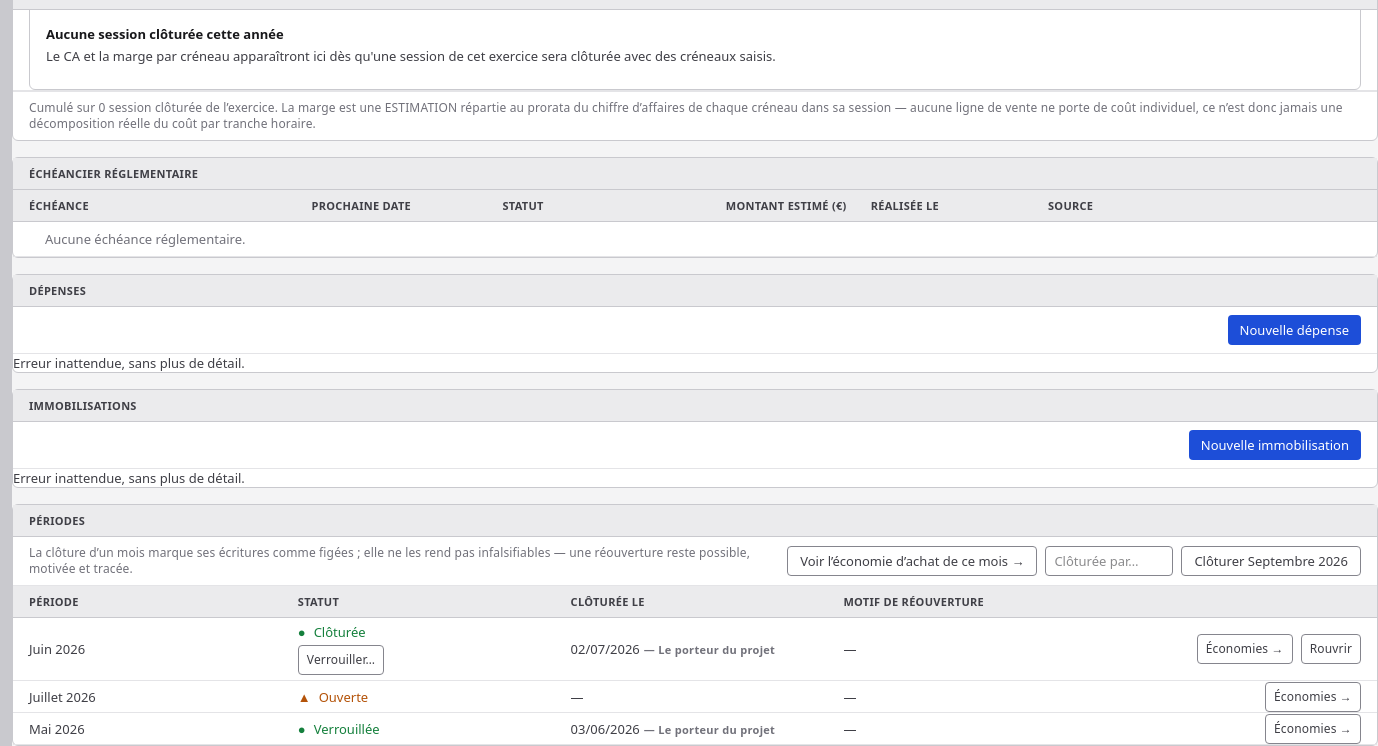
Comptabilité — le verrou définitif ne se pose jamais par accident › le clic ouvre la confirmation, demande l’impact de CETTE période, et pose le focus sur la recopie
The image size is (1378, 746).
(page scrolled)
Click the button "Verrouiller…" at (341, 660), box [298,645,384,675]
(page scrolled)
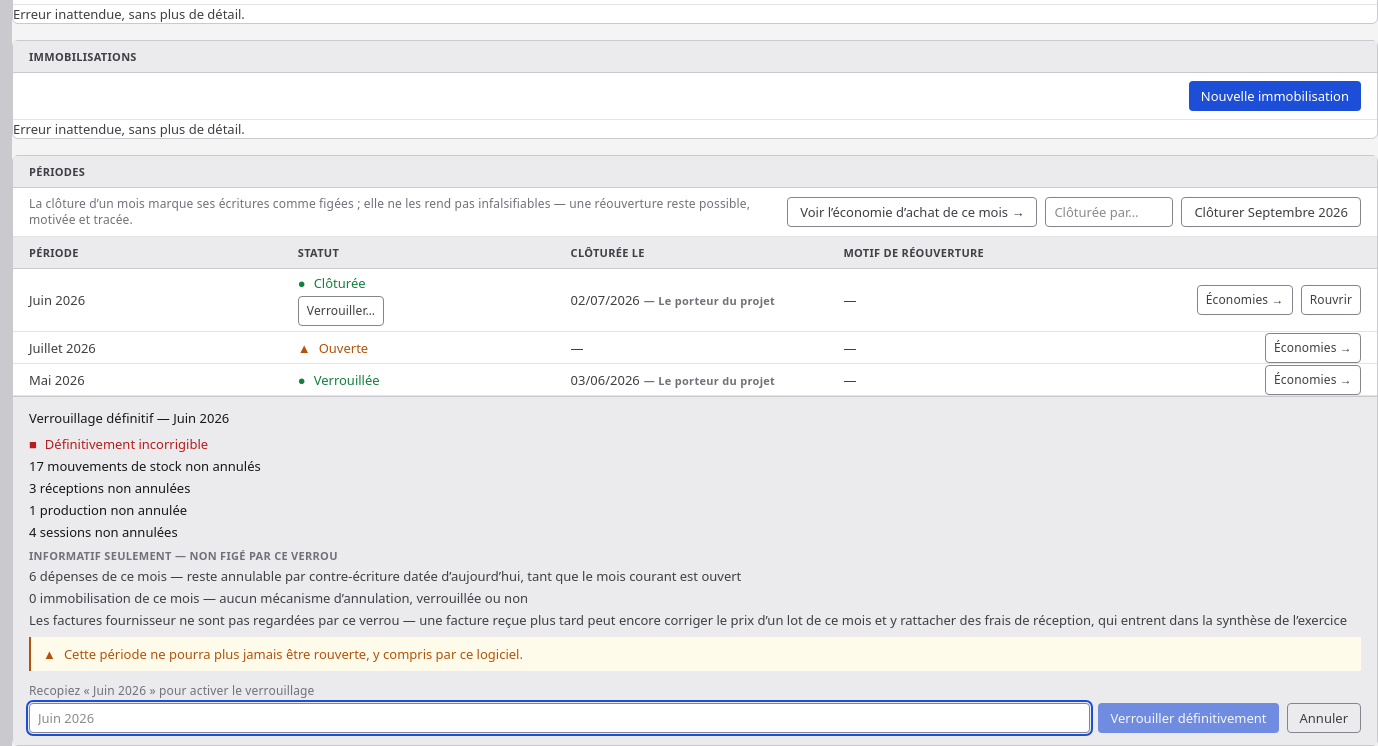
Check: the text "Verrouillage définitif — Juin 2026" is shown, box [29,409,229,427]
